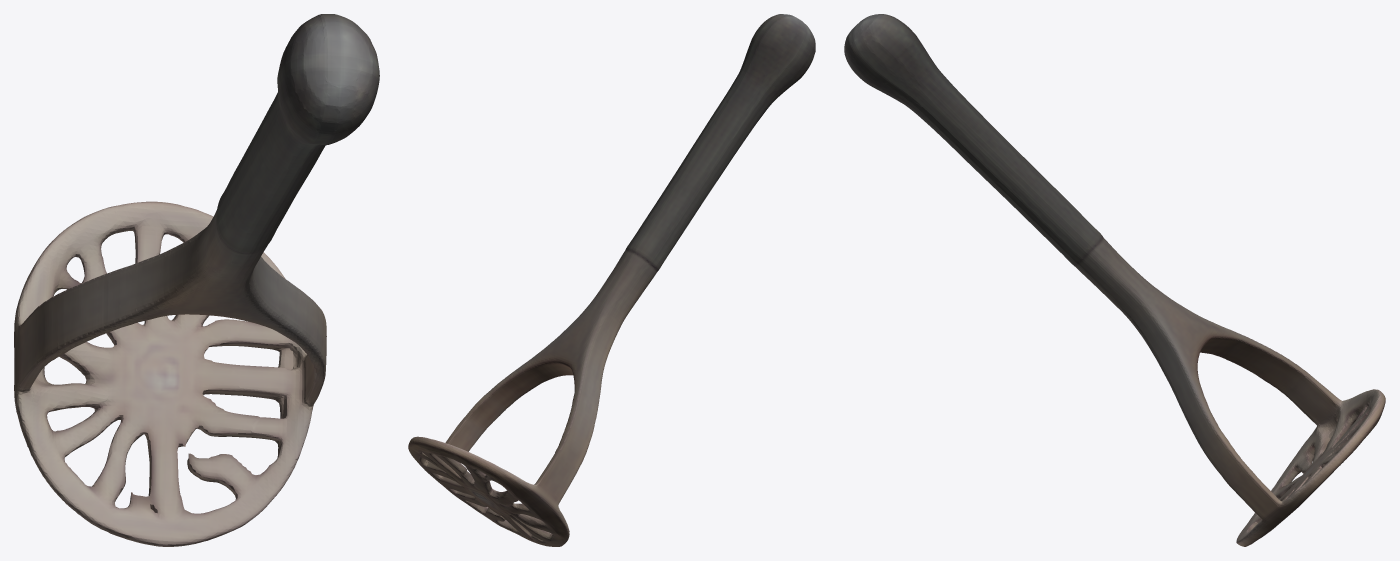
The model's file is frame_0042_source_000042_object.glb.
The picture shows the model from 3 angles, left to right: view 1: azimuth 30°, elevation 25°; view 2: azimuth 150°, elevation 25°; view 3: azimuth 270°, elevation 25°; orthographic projection. The views are drawn at different scales.
Parts seen in each view (by area): view 1: world; view 2: world; view 3: world.
Boxes of the visible parts, x1,y1,x2,y2 form: world: (14, 14, 379, 546); world: (408, 14, 815, 546); world: (844, 14, 1385, 546).
Bounding box in the file's own units: 0.1002 × 0.2041 × 0.2117.
